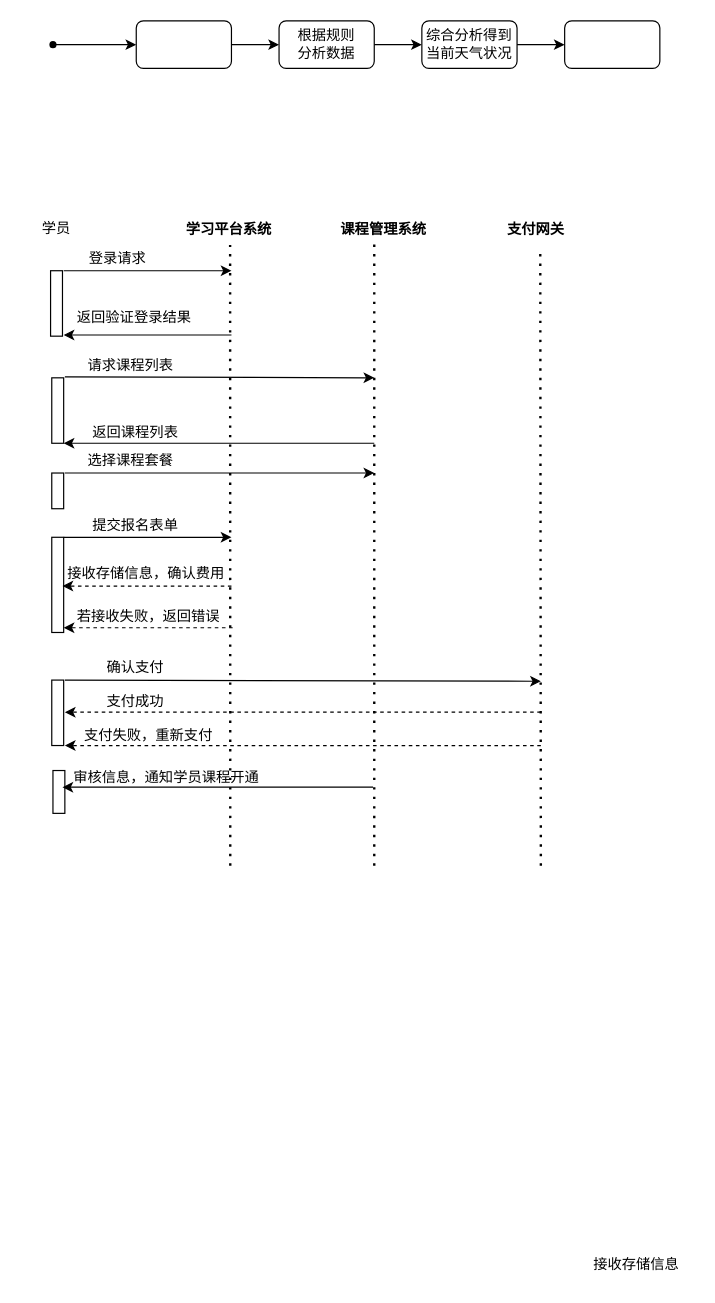
Image size: 715x1303. Some labels were removed from this diagram. Each missing label, with the centre of its shape:
得到数据: pixel 183 44
输出天气状况: pixel 611 44
